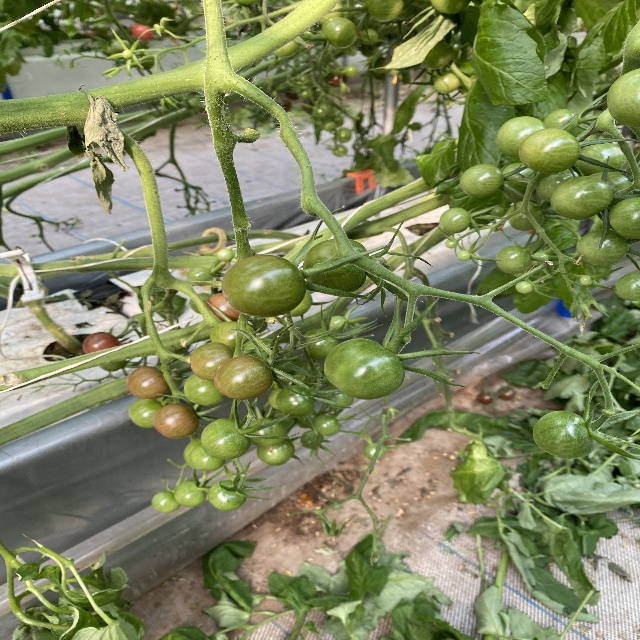l_fully_ripened: (83, 332, 121, 355)
l_green: (220, 254, 305, 317), (323, 339, 406, 400), (303, 238, 370, 295), (532, 411, 597, 459), (519, 128, 581, 174), (549, 176, 612, 220), (495, 116, 546, 157), (200, 419, 251, 460), (572, 138, 627, 176), (576, 229, 629, 267), (607, 68, 640, 128), (587, 172, 634, 207), (533, 169, 579, 203), (183, 436, 227, 471), (209, 321, 257, 352), (460, 164, 504, 197), (184, 372, 226, 406), (608, 196, 640, 239), (240, 338, 283, 370), (246, 417, 289, 447), (276, 386, 316, 418), (207, 479, 248, 510), (300, 329, 340, 360), (257, 435, 295, 466), (506, 201, 545, 231), (322, 17, 358, 48), (495, 245, 532, 275), (128, 399, 165, 428), (173, 479, 206, 507), (438, 207, 471, 234), (544, 109, 578, 134), (613, 271, 640, 301), (432, 71, 462, 93), (151, 491, 181, 512), (312, 416, 340, 435), (186, 267, 214, 285), (214, 248, 234, 261), (515, 280, 534, 293), (578, 275, 593, 286), (457, 250, 471, 261), (445, 239, 457, 249)
l_half_ripened: (214, 356, 273, 400), (190, 341, 242, 382), (153, 403, 200, 439), (126, 366, 171, 399), (207, 294, 239, 322)
